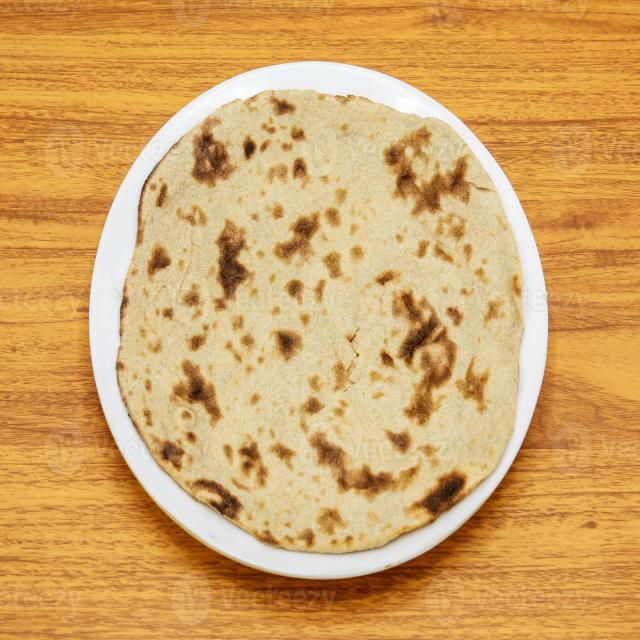ROTI: (115, 94, 523, 551)
